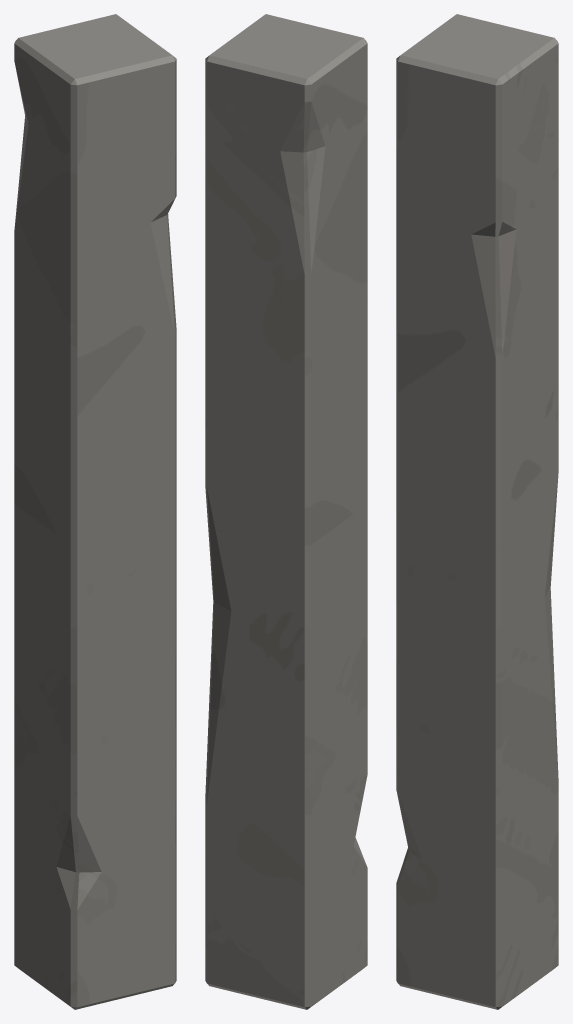
Rendered from model_concrete_pillar.fbx.
The picture shows the model from 3 angles, left to right: view 1: azimuth 30°, elevation 25°; view 2: azimuth 150°, elevation 25°; view 3: azimuth 330°, elevation 25°; orthographic projection.
Visible parts, largest first — view 1: model_concrete_pillar; view 2: model_concrete_pillar; view 3: model_concrete_pillar.
Part boxes in pixels (x1,y1,x2,y2): model_concrete_pillar: (14, 14, 176, 1009); model_concrete_pillar: (205, 14, 367, 1009); model_concrete_pillar: (396, 14, 558, 1009).
Bounding box in the file's own units: 82.24 × 689 × 82.24.
1 material, 1 textured.
